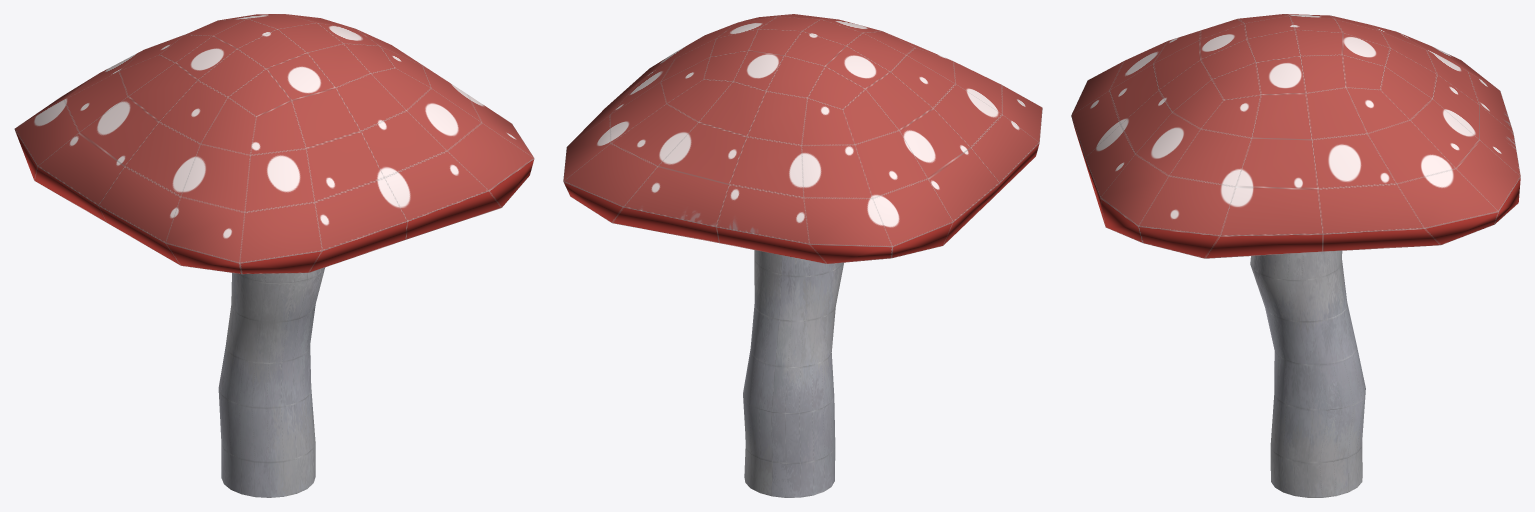
File: MushroomPivotPointCorrect3 1.fbx
The picture shows the model from 3 angles, left to right: view 1: azimuth 30°, elevation 25°; view 2: azimuth 150°, elevation 25°; view 3: azimuth 270°, elevation 25°; orthographic projection. The views are drawn at different scales.
Visible parts, largest first — view 1: pCylinder11; view 2: pCylinder11; view 3: pCylinder11.
Boxes of the visible parts, box(x1,y1,x2,y2) form: pCylinder11: box(14, 14, 534, 497); pCylinder11: box(563, 14, 1042, 497); pCylinder11: box(1071, 14, 1520, 497).
Size of the model in its own units: 0.5841 by 0.6468 by 0.5872.
1 material, 1 textured.
